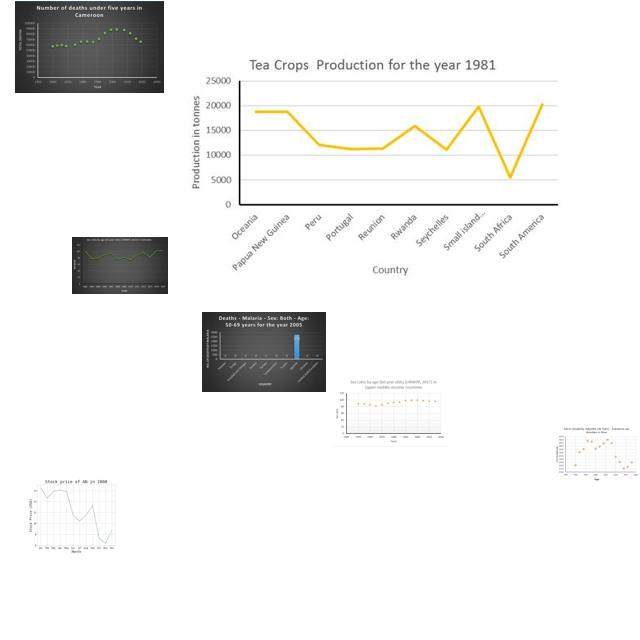Graph: (182, 53, 563, 278), (15, 1, 164, 93), (202, 312, 326, 392), (22, 475, 128, 555), (333, 377, 446, 447), (72, 237, 168, 294), (554, 426, 639, 481)
